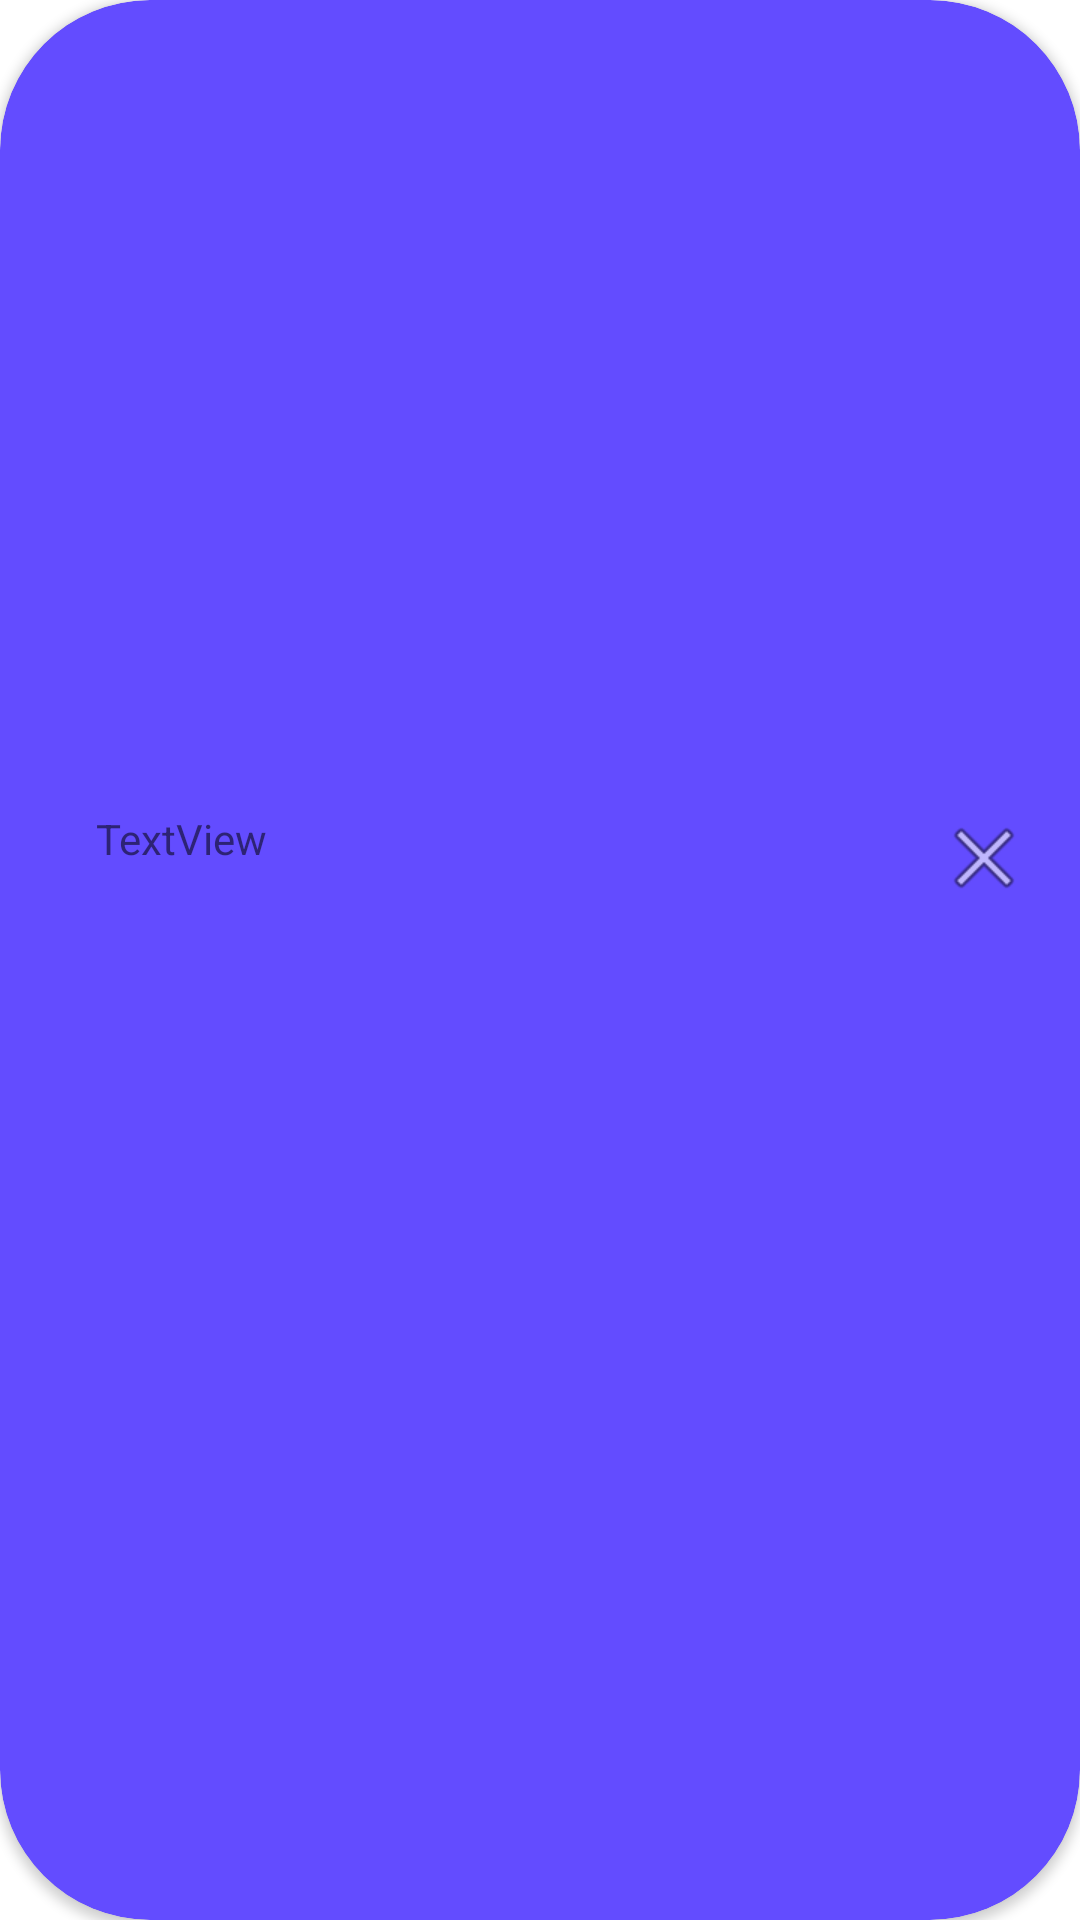

Named icons in this screenshot (1080px x 1920px) and their bounding boxes, (x1, y1, x2, y2):
close clear cancel: (954, 828, 1014, 888)
